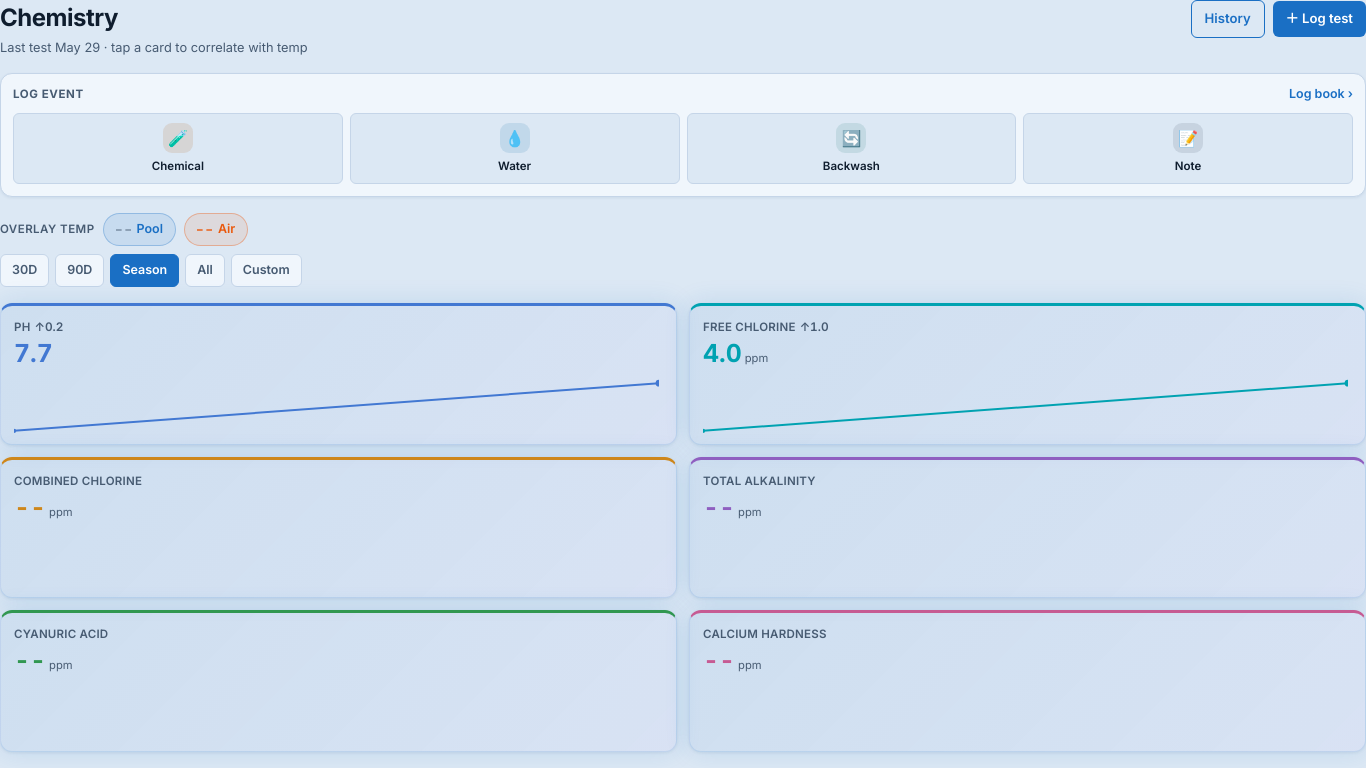
it: ChemistryTab › opens the focus sheet when a card is tapped
Click the text "FREE CHLORINE" at (749, 328), box [703, 319, 796, 336]
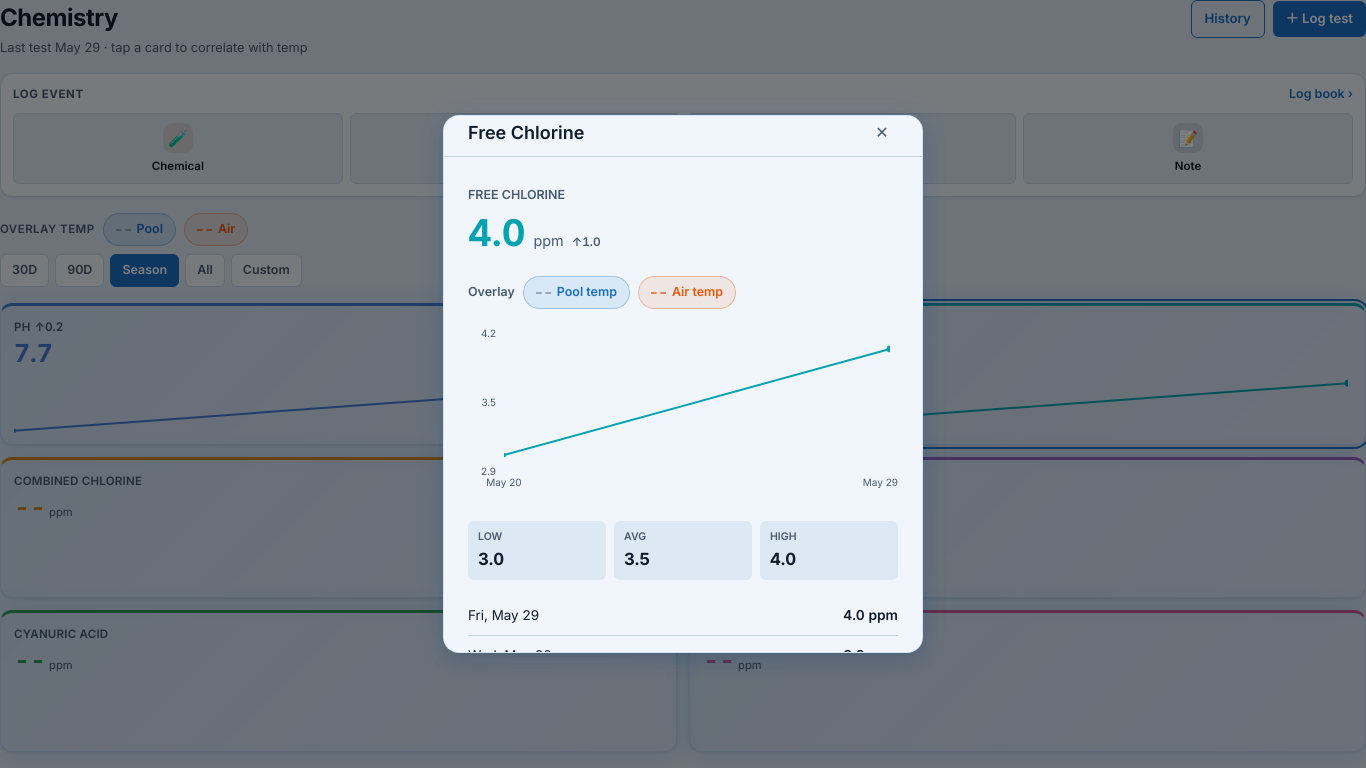
Result: the text "Avg" is shown at [624, 530, 646, 543]
